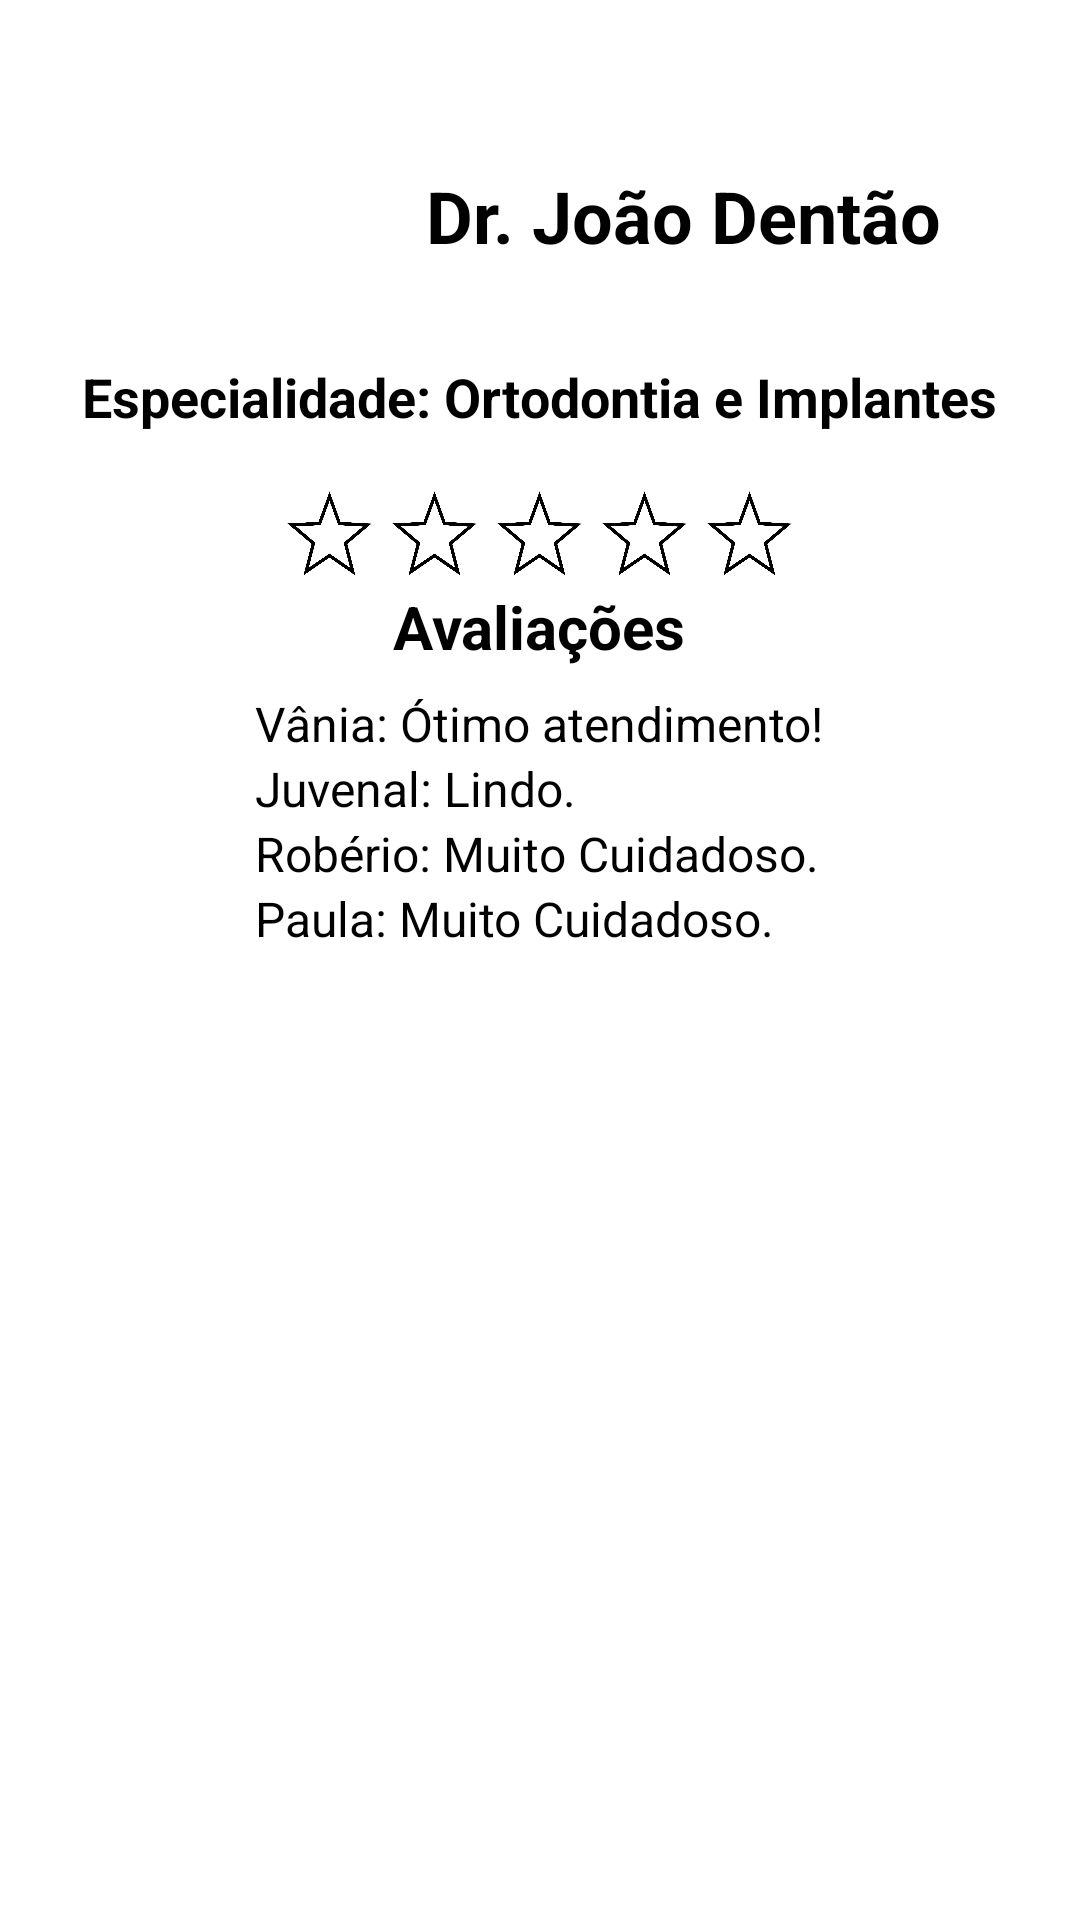

Point at icon controls on the screen. Image size 1080px x 1920px, points as point (x, y).
star empty: point (329, 533), point (434, 533), point (539, 533), point (644, 533), point (749, 533)
